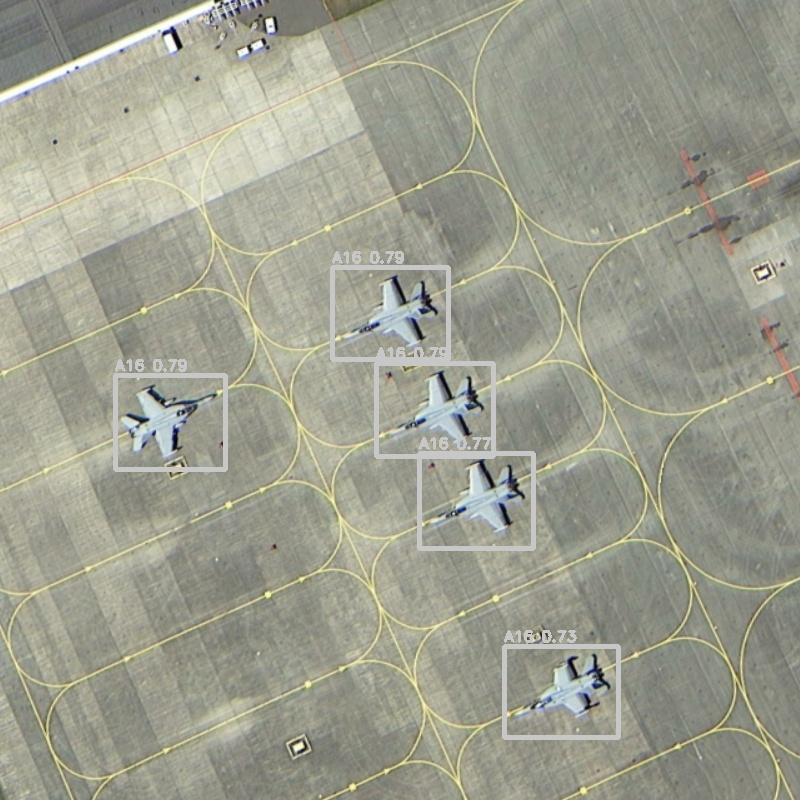A16: (376, 363, 493, 456), (419, 453, 533, 548), (332, 267, 448, 359), (504, 646, 618, 737), (115, 375, 225, 469)
